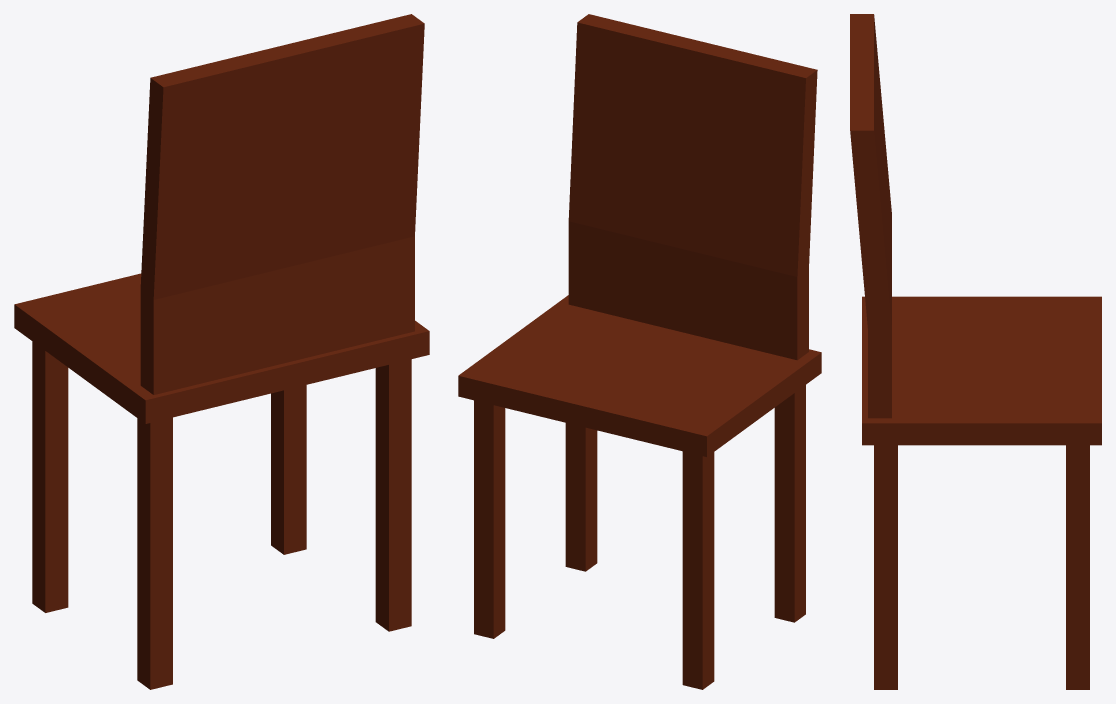
Rendered from Stuhl.fbx.
3 renders of one model, left to right at view 1: azimuth 30°, elevation 25°; view 2: azimuth 150°, elevation 25°; view 3: azimuth 270°, elevation 25°, orthographic. The views are drawn at different scales.
Parts seen in each view (by area): view 1: Stuhl; view 2: Stuhl; view 3: Stuhl.
Part boxes in pixels (x1,y1,x2,y2): Stuhl: (14,14,429,689); Stuhl: (458,14,821,689); Stuhl: (850,14,1101,689).
Size of the model in its own units: 50 by 103 by 42.
